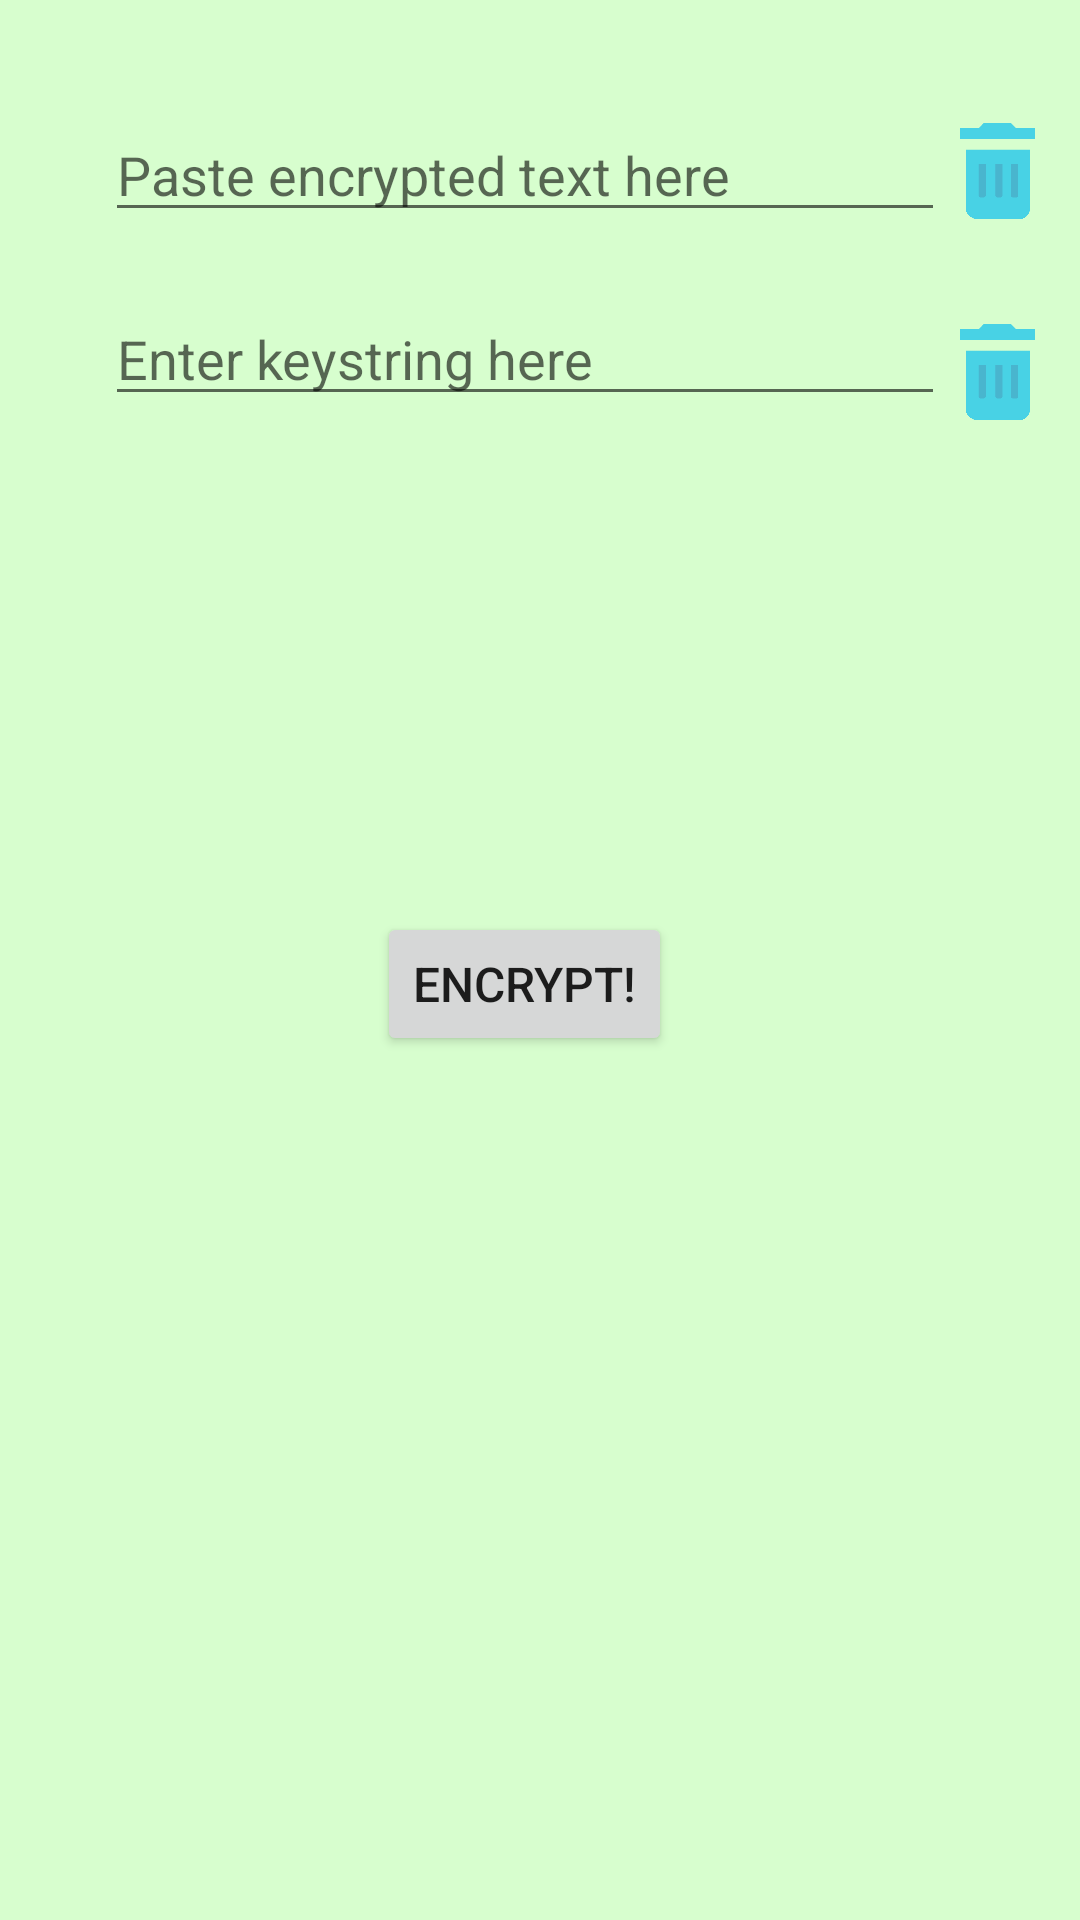

Locate icon controls on the screen. Image size 1080px×1920px, boxes as box=[x1, y1, x2, y2].
bin: box=[960, 123, 1035, 219], box=[960, 324, 1035, 420]
